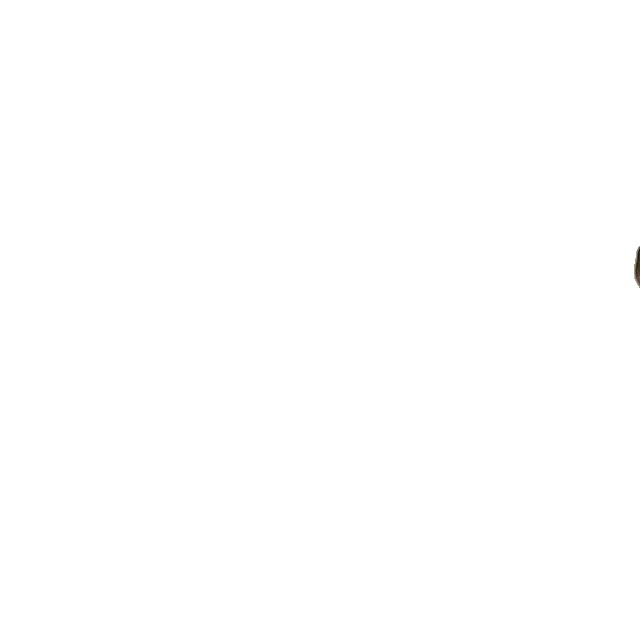buckwheat: (633, 237, 640, 296)
